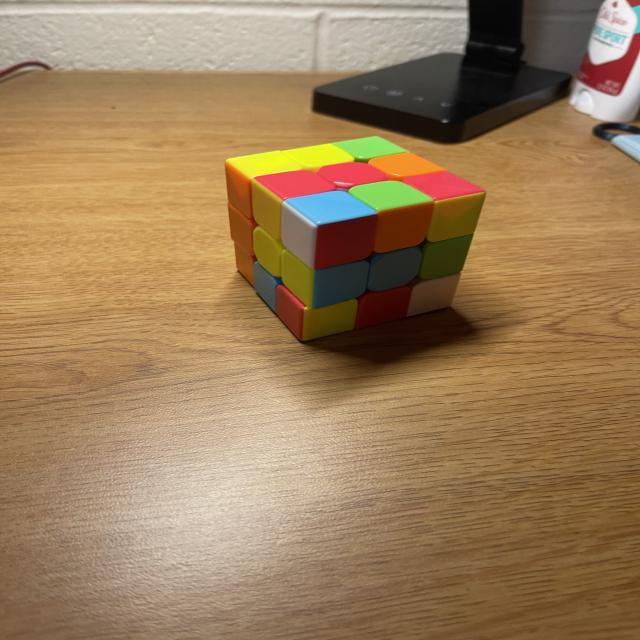Rubiks Cube: (225, 136, 487, 342)
